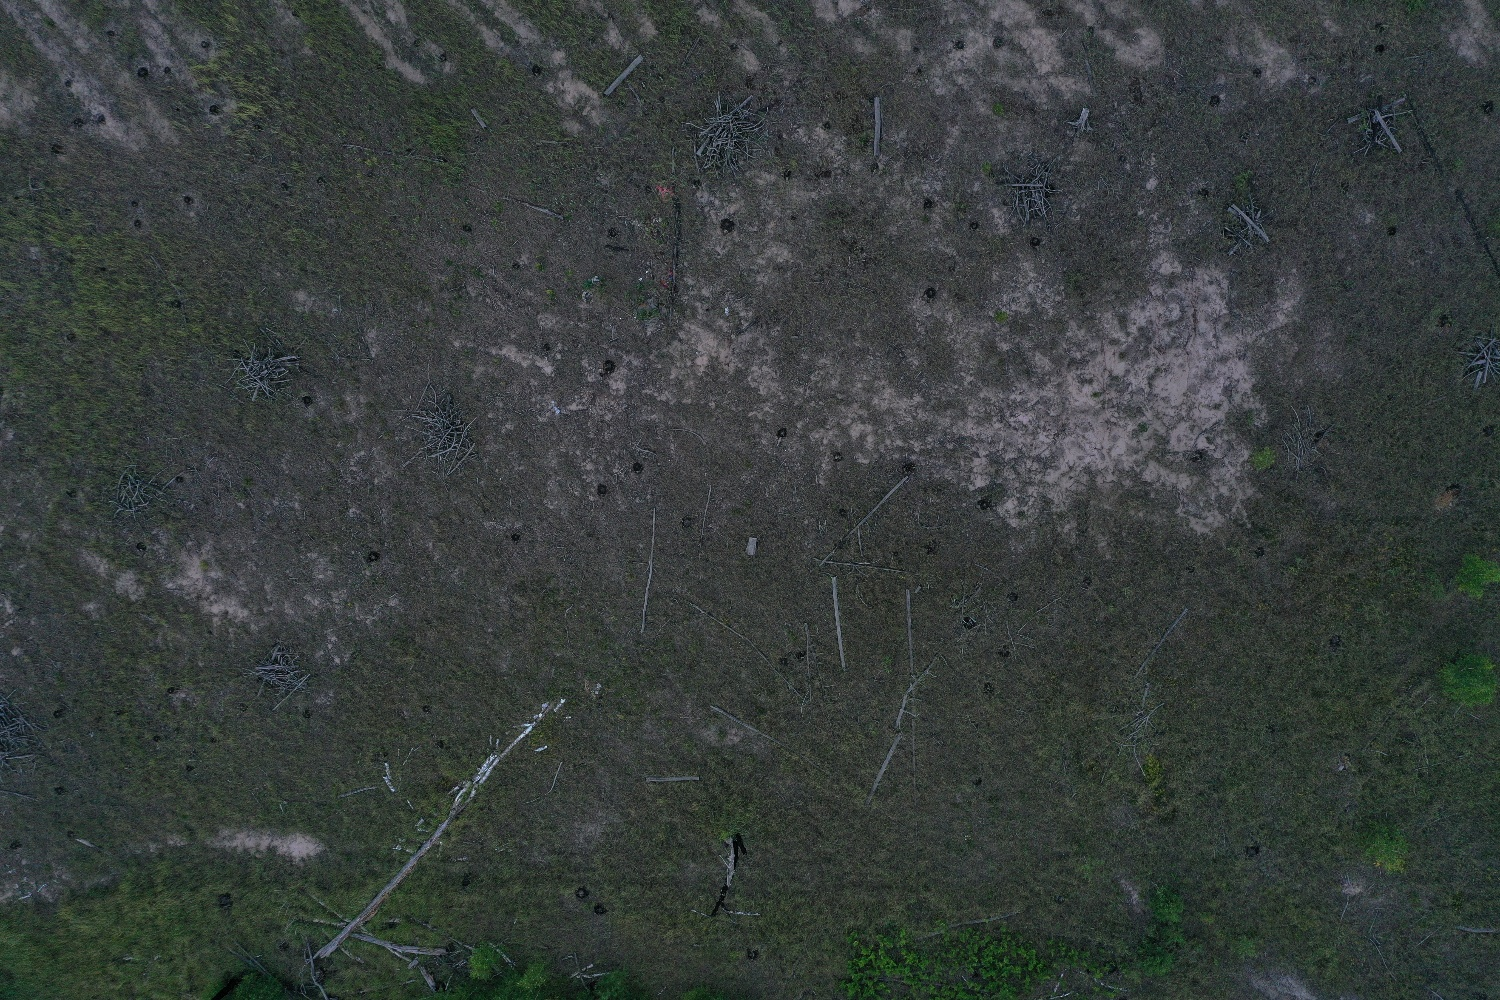branches: (390, 379, 484, 480), (685, 93, 775, 175), (224, 330, 314, 403), (1000, 155, 1062, 228), (248, 640, 311, 710), (1, 693, 49, 779), (1347, 95, 1408, 157), (108, 463, 177, 518), (1222, 198, 1281, 258), (1458, 323, 1500, 394)
